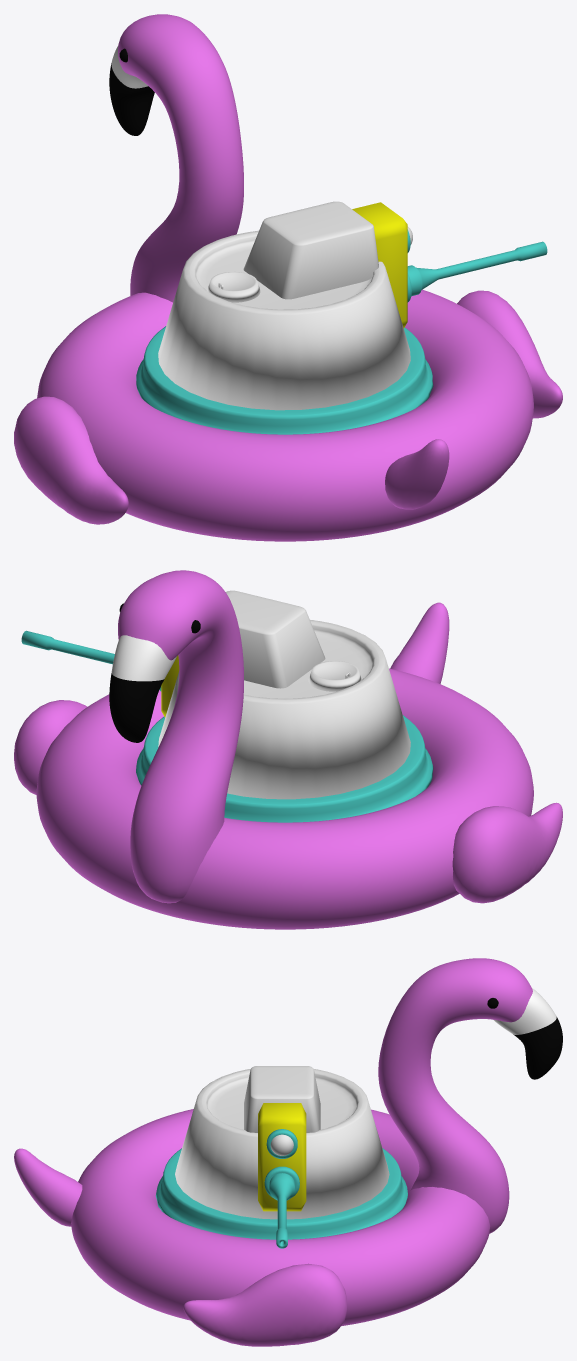
The model's file is Flamingo.fbx.
3 views of the same model, one above another, from view 1: azimuth 30°, elevation 25°; view 2: azimuth 150°, elevation 25°; view 3: azimuth 270°, elevation 25° (orthographic). The views are drawn at different scales.
Visible parts, largest first — view 1: Flamingo, Tank; view 2: Flamingo, Tank; view 3: Flamingo, Tank.
Boxes of the visible parts, <box> form: Flamingo: <box>14,14,562,541</box>; Tank: <box>158,201,547,410</box>; Flamingo: <box>14,570,562,929</box>; Tank: <box>21,590,410,799</box>; Flamingo: <box>14,958,562,1346</box>; Tank: <box>175,1066,389,1248</box>.
Size of the model in its own units: 1354 by 890 by 1506.
